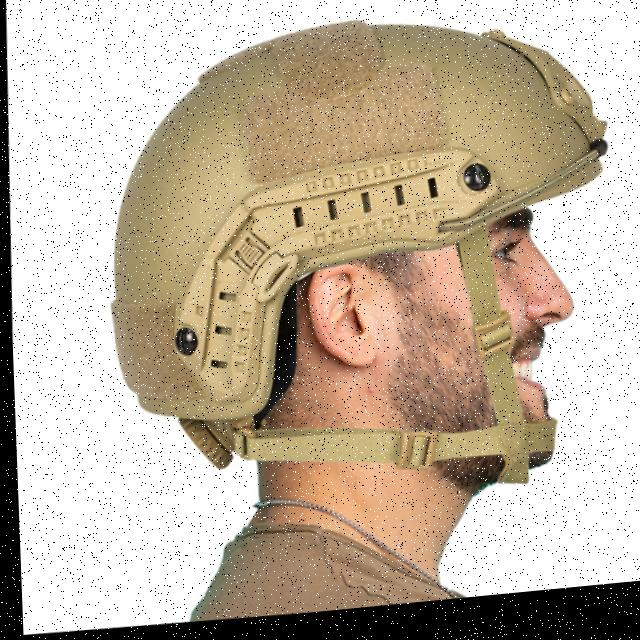illegal_helmet: (86, 0, 628, 540)
